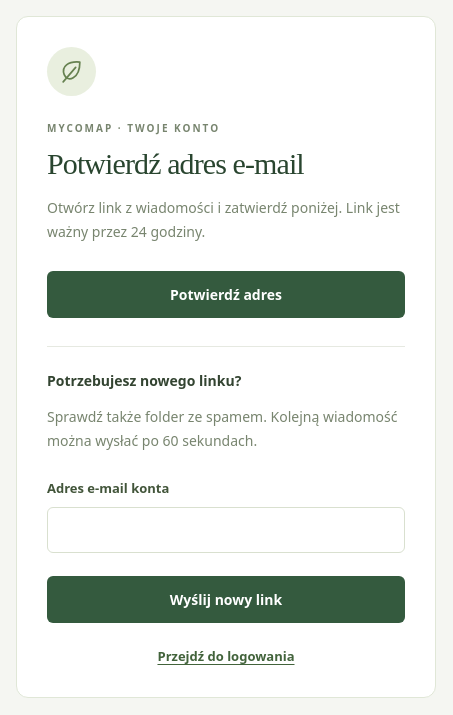
it: potwierdza adres dopiero po kliknięciu użytkownika i wysyła token w treści POST
The width and height of the screenshot is (453, 715).
Click the button "Potwierdź adres" at (226, 294), box [47,271,405,318]
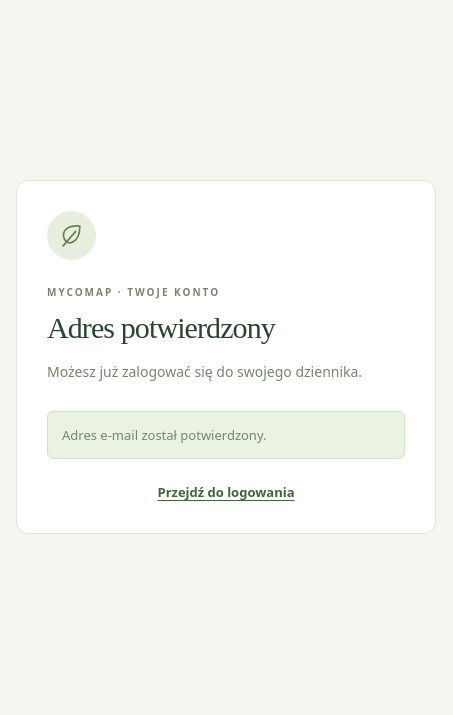
Expected: the heading "Adres potwierdzony" is shown, [47,311,275,344]
